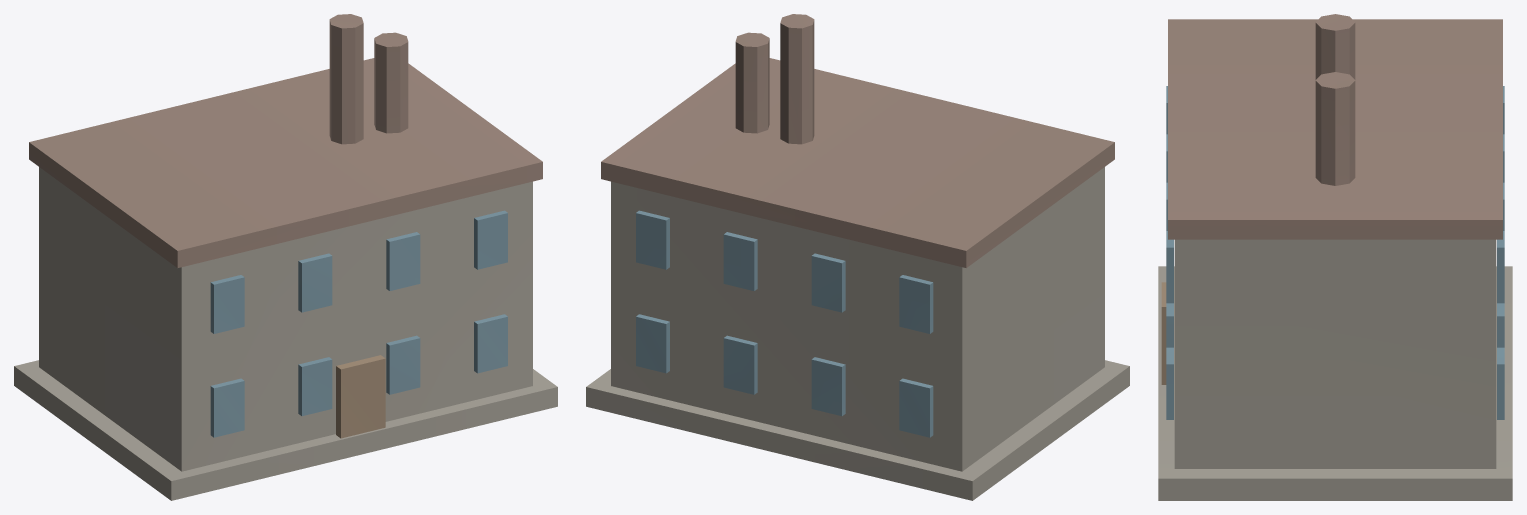
File: factory-07.glb
The picture shows the model from 3 angles, left to right: view 1: azimuth 30°, elevation 25°; view 2: azimuth 150°, elevation 25°; view 3: azimuth 270°, elevation 25°; orthographic projection. The views are drawn at different scales.
Parts seen in each view (by area): view 1: world; view 2: world; view 3: world.
Part boxes in pixels (x1,y1,x2,y2): world: (14,14,557,500); world: (586,14,1129,500); world: (1158,14,1512,500).
Bounding box in the file's own units: 1.64 × 1.46 × 1.15.
